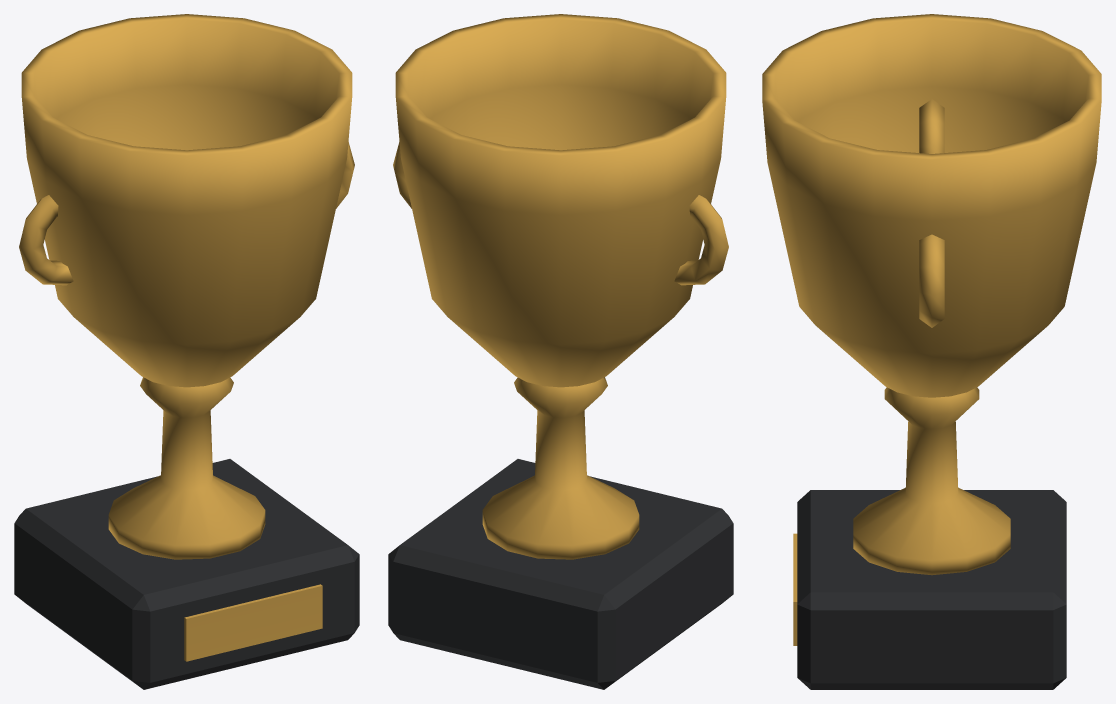
Rendered from trophy.glb.
3 renders of one model, left to right at view 1: azimuth 30°, elevation 25°; view 2: azimuth 150°, elevation 25°; view 3: azimuth 270°, elevation 25°, orthographic. The views are drawn at different scales.
Visible parts, largest first — view 1: trophy; view 2: trophy; view 3: trophy.
Boxes of the visible parts, bbox=[...] form: trophy: bbox=[14, 14, 359, 689]; trophy: bbox=[388, 14, 733, 689]; trophy: bbox=[762, 14, 1101, 689].
Size of the model in its own units: 0.148 by 0.226 by 0.1261.
